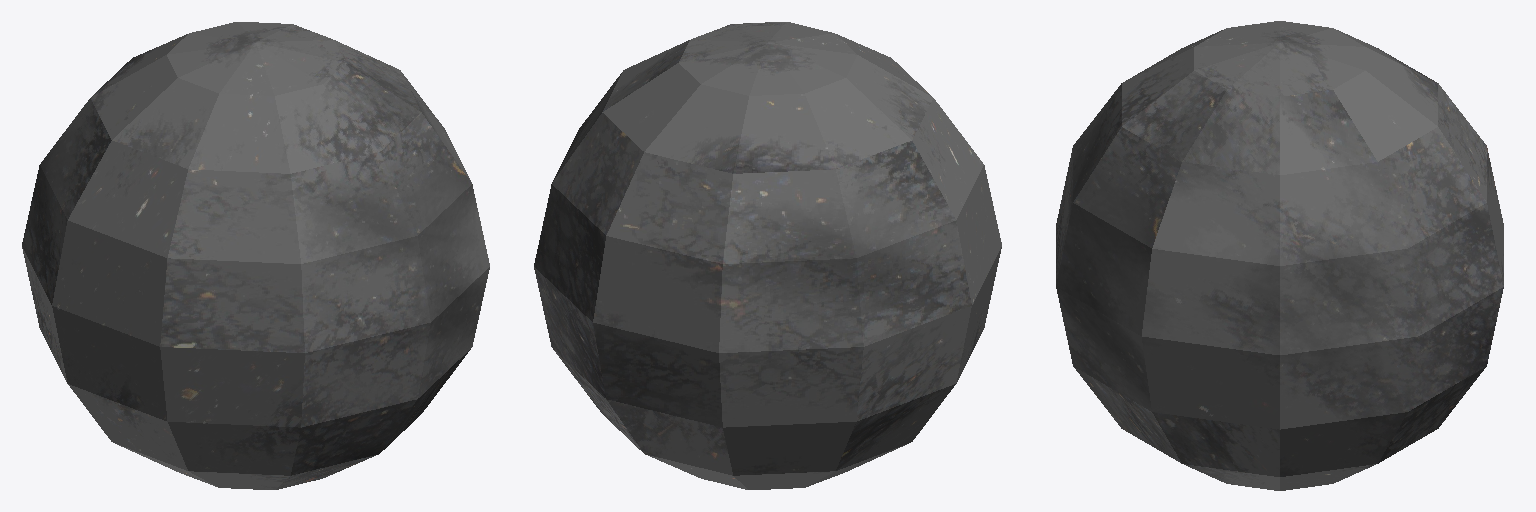
The picture shows the model from 3 angles: view 1: azimuth 30°, elevation 25°; view 2: azimuth 150°, elevation 25°; view 3: azimuth 270°, elevation 25°; orthographic projection.
Visible parts, largest first — view 1: Mesh_Sphere; view 2: Mesh_Sphere; view 3: Mesh_Sphere.
Part boxes in pixels (bbox=[...]): Mesh_Sphere: bbox=[22, 22, 489, 489]; Mesh_Sphere: bbox=[534, 22, 1001, 489]; Mesh_Sphere: bbox=[1056, 21, 1503, 490].
Size of the model in its own units: 1.2 by 1.2 by 1.14.
1 materials, 1 textured.